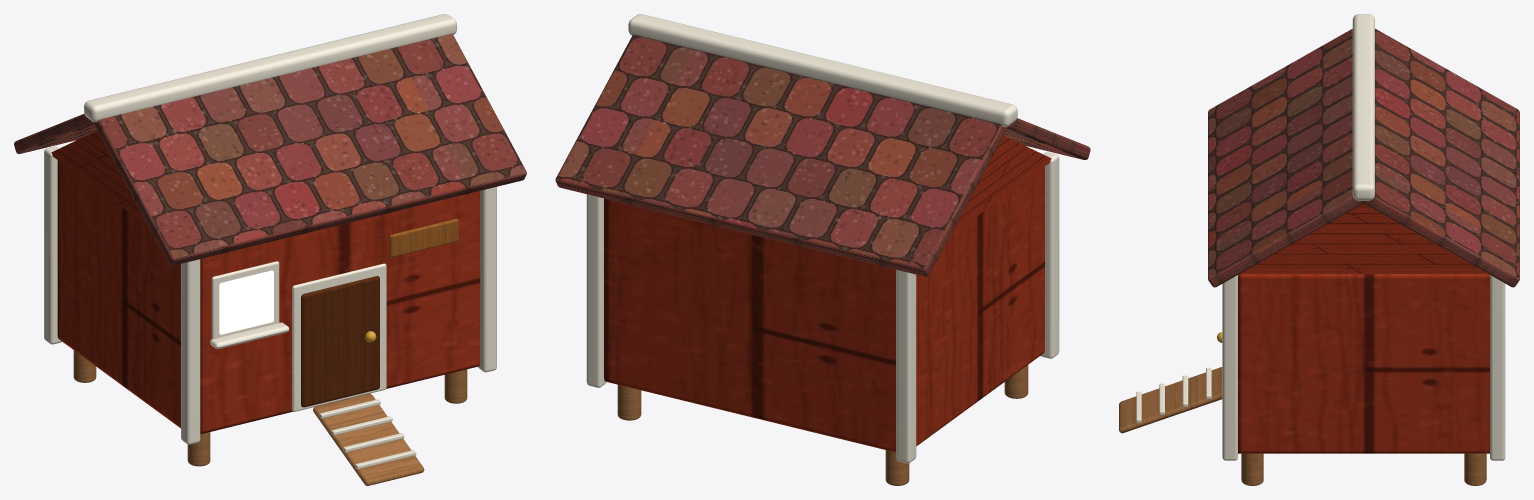
File: coop.glb
The picture shows the model from 3 angles, left to right: view 1: azimuth 30°, elevation 25°; view 2: azimuth 150°, elevation 25°; view 3: azimuth 270°, elevation 25°; orthographic projection. The views are drawn at different scales.
Parts seen in each view (by area): view 1: roof, body, door, ridge, ramp, corner, door_frame, corner.002, gable, window, corner.001, nameplate (+6 smaller); view 2: body, roof.001, ridge, corner.001, corner.003, gable, corner, roof, leg.003, leg.001, leg; view 3: body, roof, roof.001, gable.001, ridge, ramp, corner.002, corner.003, leg.002, leg.003.
Part boxes in pixels (x1,y1,x2,y2): roof: (93, 34, 526, 265); body: (57, 160, 480, 434); door: (301, 276, 379, 407); ridge: (84, 14, 456, 122); ramp: (313, 393, 424, 485); corner: (181, 259, 200, 444); door_frame: (292, 263, 386, 411); corner.002: (478, 187, 496, 372); gable: (51, 131, 148, 226); window: (219, 270, 273, 334); corner.001: (44, 146, 61, 344); nameplate: (389, 218, 458, 257); body: (604, 166, 1044, 452); roof.001: (555, 35, 1008, 276); ridge: (628, 14, 1017, 126); corner.001: (896, 269, 916, 463); corner.003: (586, 194, 606, 387); gable: (950, 136, 1051, 235); corner: (1040, 152, 1059, 358); roof: (1004, 118, 1090, 159); leg.003: (617, 385, 641, 420); leg.001: (885, 450, 909, 485); leg: (1004, 365, 1028, 398); body: (1238, 274, 1489, 453); roof: (1208, 29, 1364, 287); roof.001: (1364, 28, 1519, 287); gable.001: (1240, 204, 1487, 273); ridge: (1352, 14, 1374, 200); ramp: (1119, 367, 1222, 433); corner.002: (1222, 275, 1237, 460); corner.003: (1490, 275, 1505, 460); leg.002: (1241, 453, 1263, 485); leg.003: (1464, 453, 1486, 485).
Size of the model in its own units: 3.7 by 3.18 by 3.6.
8 materials, 5 textured.
